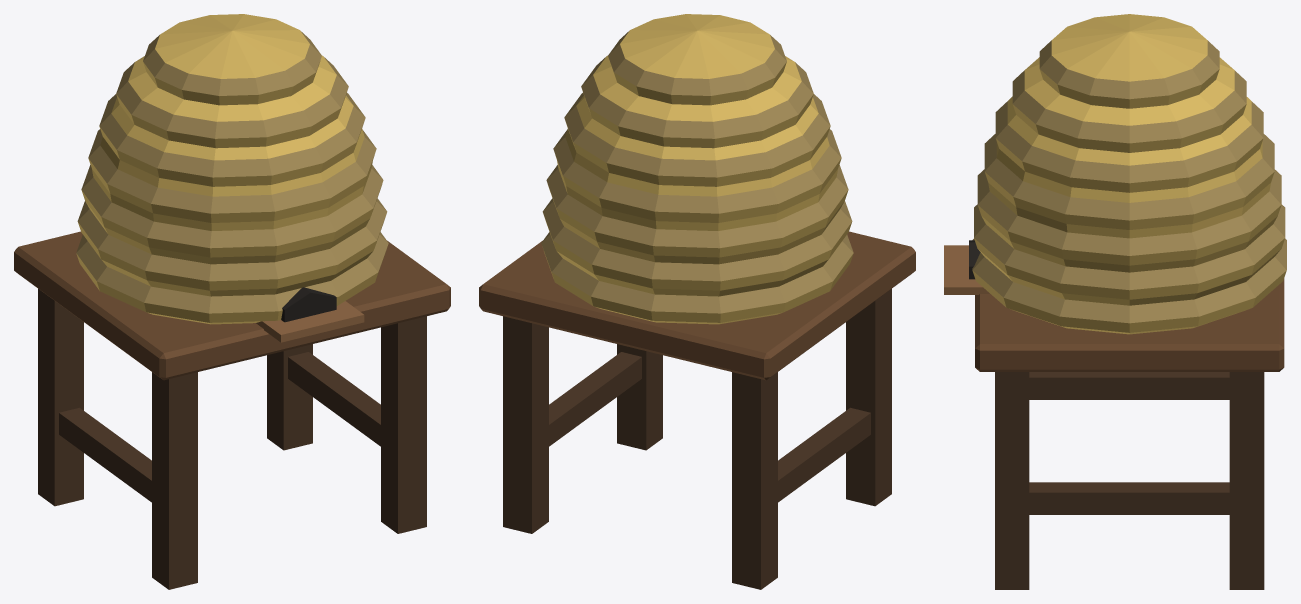
Rendered from mdvl_farm_beehive_01.glb.
3 renders of one model, left to right at view 1: azimuth 30°, elevation 25°; view 2: azimuth 150°, elevation 25°; view 3: azimuth 270°, elevation 25°, orthographic. The views are drawn at different scales.
Visible parts, largest first — view 1: mdvl_farm_beehive_01; view 2: mdvl_farm_beehive_01; view 3: mdvl_farm_beehive_01.
Part boxes in pixels (bbox=[...]): mdvl_farm_beehive_01: bbox=[14, 14, 450, 589]; mdvl_farm_beehive_01: bbox=[479, 14, 915, 589]; mdvl_farm_beehive_01: bbox=[944, 14, 1286, 589].
Bounding box in the file's own units: 0.56 × 0.881 × 0.5543.
1 material, 1 textured.
